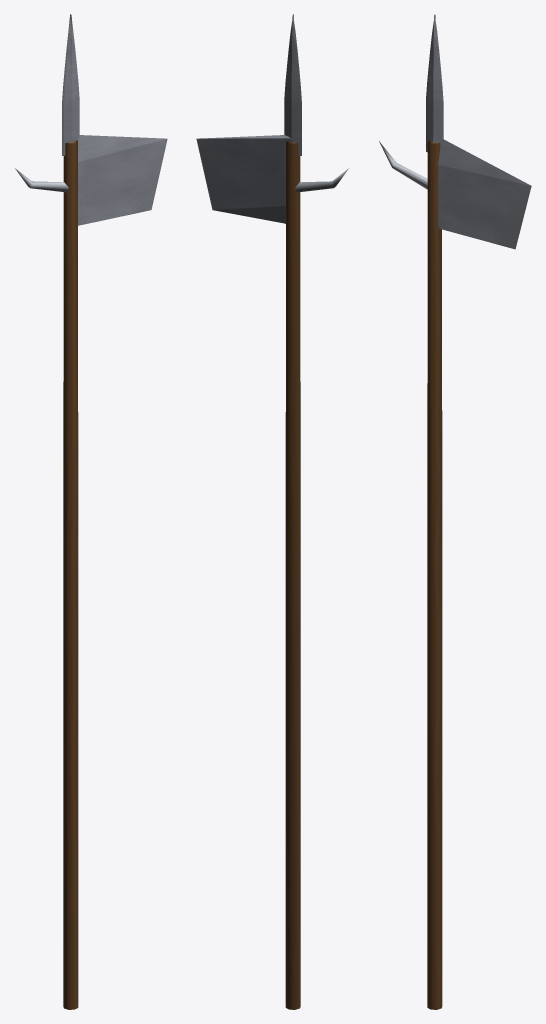
File: hallebarde.glb
3 views of the same model, side by side, from view 1: azimuth 30°, elevation 25°; view 2: azimuth 150°, elevation 25°; view 3: azimuth 330°, elevation 25° (orthographic).
Parts seen in each view (by area): view 1: hallebarde; view 2: hallebarde; view 3: hallebarde.
Part boxes in pixels (box(x1,y1,x2,y2)): hallebarde: box(15, 14, 167, 1009); hallebarde: box(196, 14, 348, 1009); hallebarde: box(379, 14, 531, 1009).
Size of the model in its own units: 0.38 by 2.35 by 0.034.
Materials: 1 (1 with a texture image).
